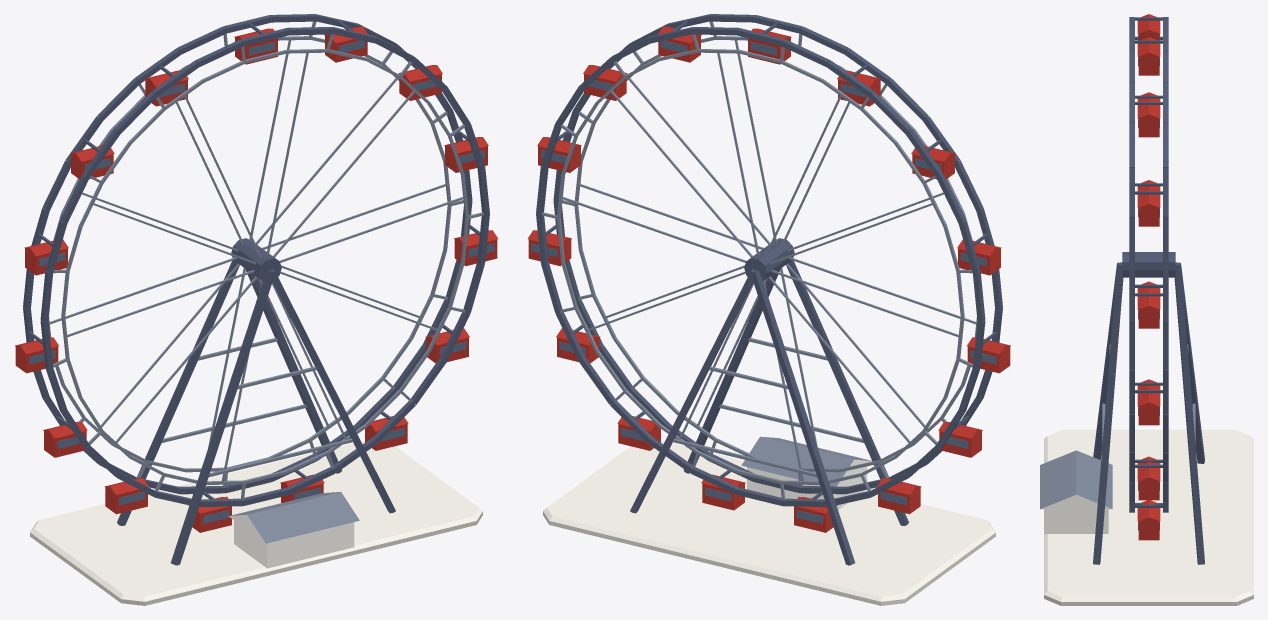
Rendered from vienna.glb.
3 views of the same model, side by side, from view 1: azimuth 30°, elevation 25°; view 2: azimuth 150°, elevation 25°; view 3: azimuth 270°, elevation 25° (orthographic). The views are drawn at different scales.
Visible parts, largest first — view 1: model; view 2: model; view 3: model.
Part boxes in pixels (left/top/right/bottom): model: left=15, top=14, right=498, bottom=605; model: left=527, top=14, right=1010, bottom=605; model: left=1040, top=14, right=1253, bottom=605.
Size of the model in its own units: 65.27 by 65.68 by 26.5.
